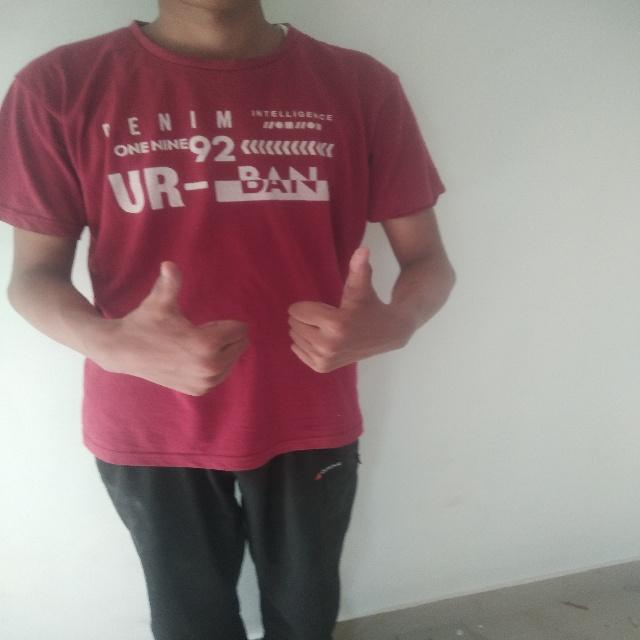Thumbs Up: (107, 259, 250, 402), (277, 244, 410, 381)
